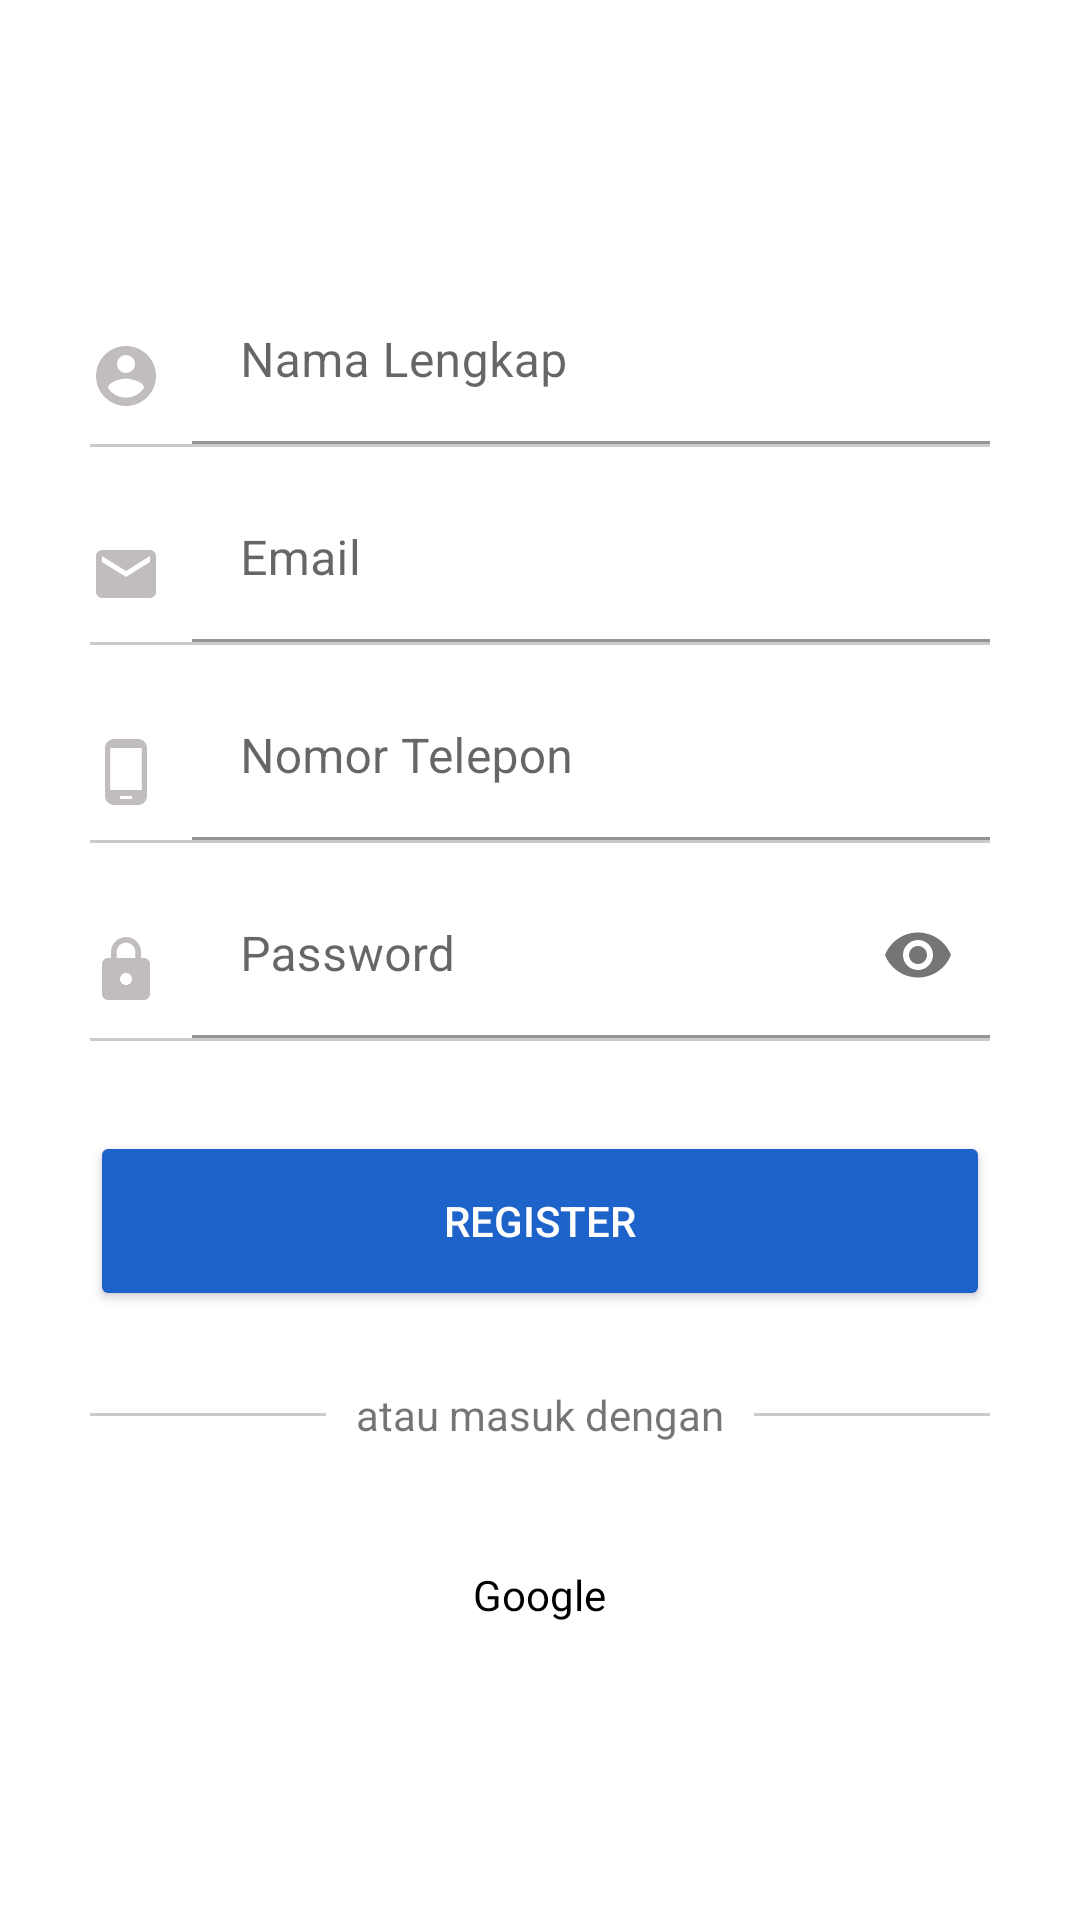

Icons on this 1080px×1920px Android screen, each with the point to tap as (x,y):
account circle: (126,376)
lock: (126,968)
phone android: (126,772)
